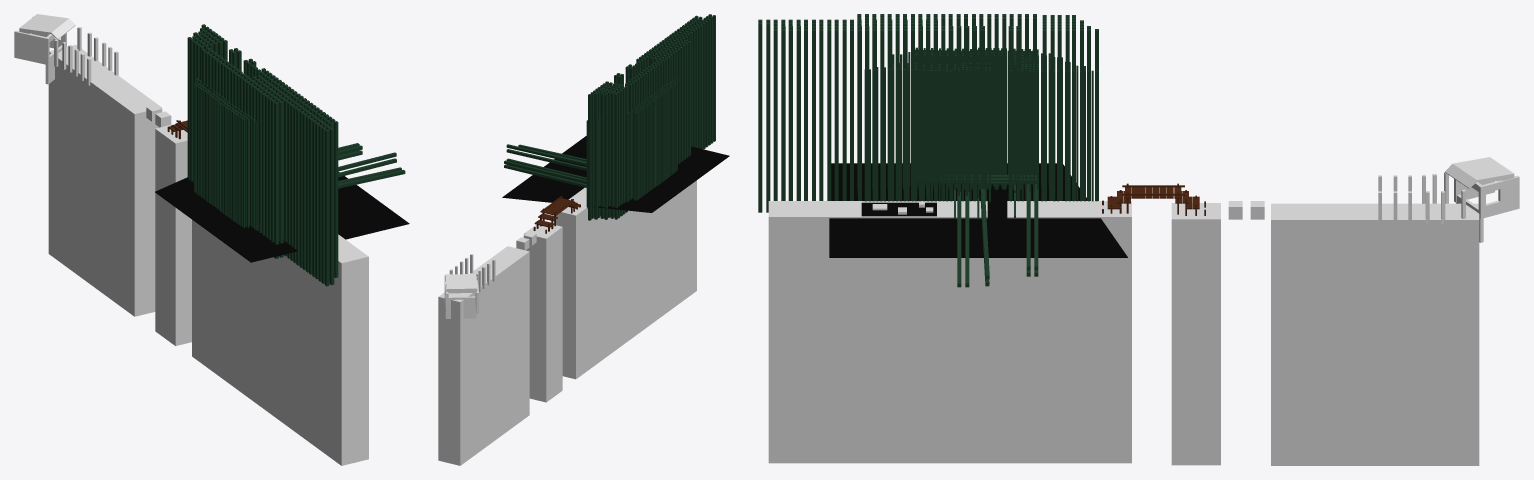
File: tru_lvl1.fbx
3 renders of one model, left to right at view 1: azimuth 30°, elevation 25°; view 2: azimuth 150°, elevation 25°; view 3: azimuth 270°, elevation 25°, orthographic. The views are drawn at different scales.
Visible parts, largest first — view 1: Cube, Cube.018, Cube.035, Cube.001, Cube.017, Cube.034, Cube.002, Cube.016, Cube.029, Cube.026, Cube.031, Cube.030; view 2: Cube, Cube.018, Cube.017, Cube.001, Cube.029, Cube.002, Cube.035, Cube.034, Cube.016, Cube.032, Cube.031, Cube.026; view 3: Cube, Cube.018, Cube.001, Cube.026, Cube.002, Cube.017, Cube.034, Cube.016, Cube.029, Cube.035, Cube.028, Cube.025 (+3 smaller).
Part boxes in pixels (x1=…): Cube: x1=192, y1=220, x2=368, y2=465; Cube.018: x1=48, y1=45, x2=161, y2=316; Cube.035: x1=252, y1=75, x2=334, y2=286; Cube.001: x1=194, y1=78, x2=256, y2=229; Cube.017: x1=155, y1=124, x2=191, y2=345; Cube.034: x1=202, y1=48, x2=283, y2=258; Cube.002: x1=155, y1=171, x2=409, y2=262; Cube.016: x1=14, y1=14, x2=118, y2=85; Cube.029: x1=187, y1=24, x2=227, y2=182; Cube.026: x1=256, y1=68, x2=338, y2=277; Cube.031: x1=338, y1=152, x2=396, y2=177; Cube.030: x1=338, y1=167, x2=405, y2=188; Cube: x1=554, y1=180, x2=696, y2=379; Cube.018: x1=438, y1=246, x2=529, y2=465; Cube.017: x1=524, y1=224, x2=562, y2=402; Cube.001: x1=586, y1=78, x2=677, y2=208; Cube.029: x1=588, y1=81, x2=627, y2=220; Cube.002: x1=502, y1=136, x2=729, y2=212; Cube.035: x1=650, y1=14, x2=715, y2=149; Cube.034: x1=625, y1=40, x2=690, y2=198; Cube.016: x1=444, y1=254, x2=495, y2=318; Cube.032: x1=504, y1=158, x2=586, y2=187; Cube.031: x1=506, y1=144, x2=586, y2=170; Cube.026: x1=636, y1=15, x2=702, y2=71; Cube: x1=768, y1=201, x2=1131, y2=463; Cube.018: x1=1271, y1=203, x2=1479, y2=465; Cube.001: x1=864, y1=47, x2=1097, y2=219; Cube.026: x1=773, y1=26, x2=953, y2=200; Cube.002: x1=829, y1=163, x2=1127, y2=257; Cube.017: x1=1171, y1=203, x2=1220, y2=465; Cube.034: x1=857, y1=14, x2=1036, y2=189; Cube.016: x1=1378, y1=157, x2=1519, y2=242; Cube.029: x1=1042, y1=15, x2=1098, y2=200; Cube.035: x1=758, y1=19, x2=937, y2=212; Cube.028: x1=1008, y1=26, x2=1020, y2=200; Cube.025: x1=973, y1=26, x2=984, y2=200.
Bounding box in the file's own units: 14669 × 23000 × 37916.
